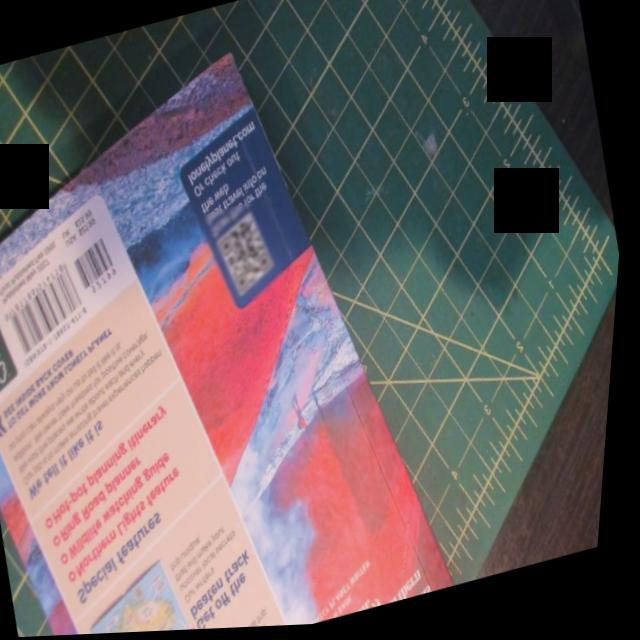QR_CODE: (196, 198, 296, 314)
